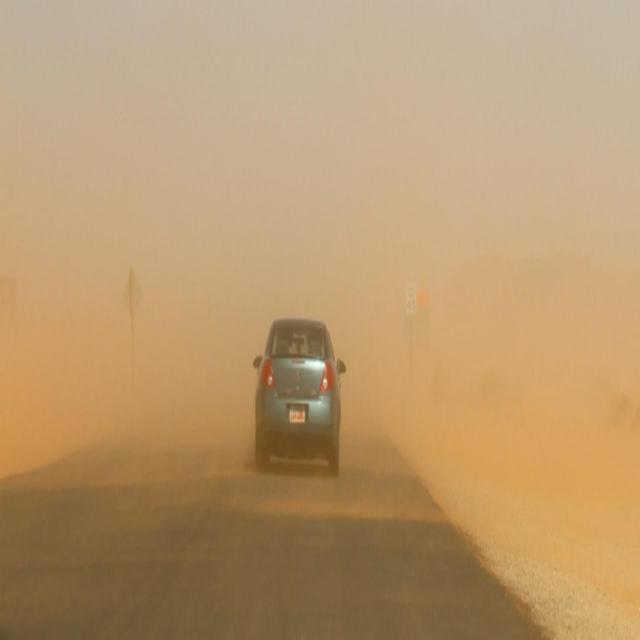Car: (251, 310, 347, 466)
